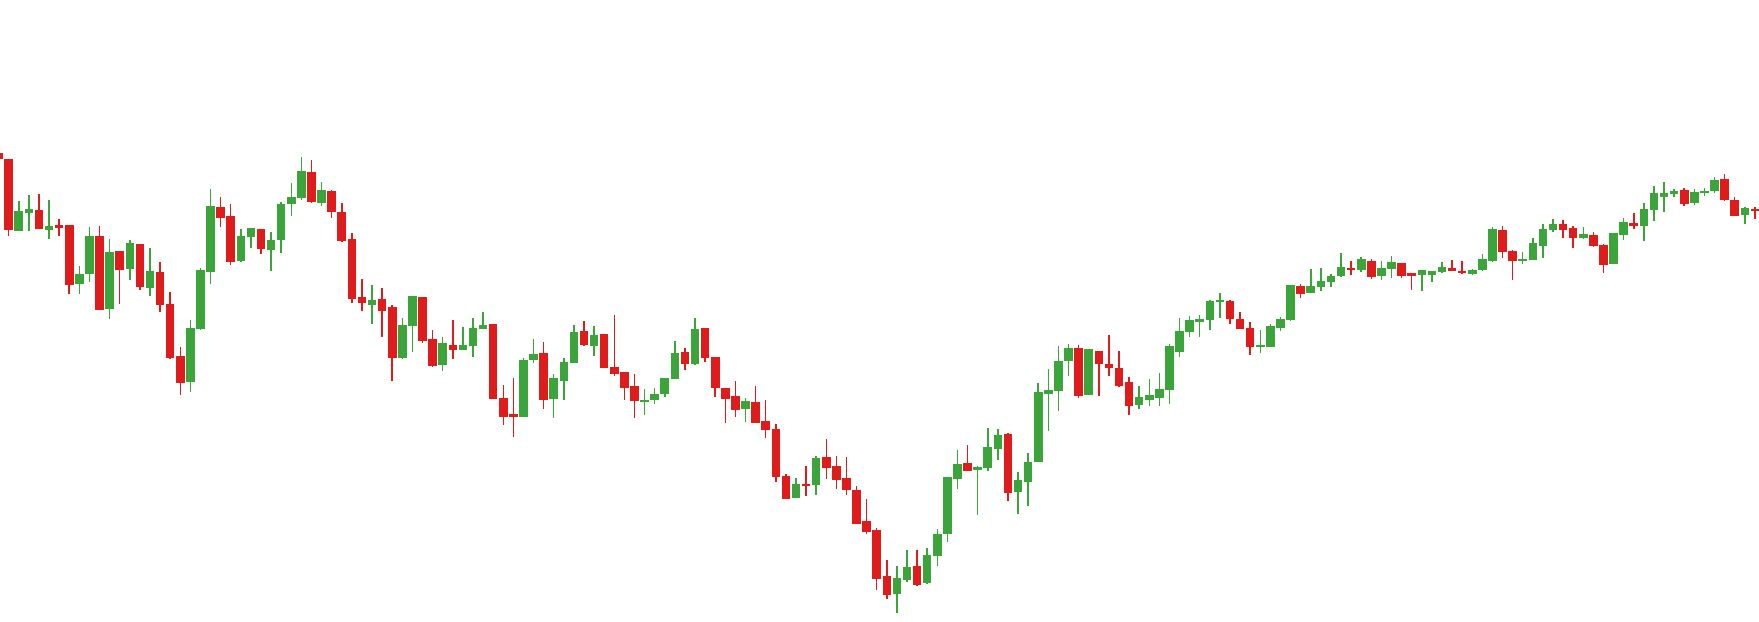buy: (973, 440, 1023, 524)
sell: (527, 314, 589, 378)
